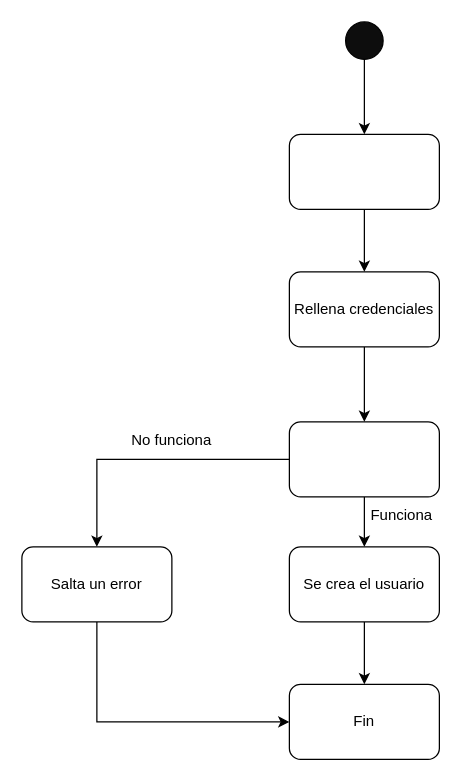
The diagram is 461 pixels wide and 781 high, and some of its shapes have lost their labels. Here are the shapes that lost their labels. From the top down, the centre of each, then its label:
[363,171]: Accede a registrarse
[363,459]: Se autentica
